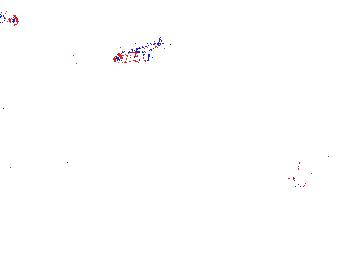X-ray fish: (236, 100, 286, 134), (285, 165, 322, 188), (288, 145, 326, 163)
red belly glassfish: (113, 34, 168, 64), (47, 1, 87, 20), (1, 13, 19, 27)
redtail glassfish: (23, 54, 92, 78)
